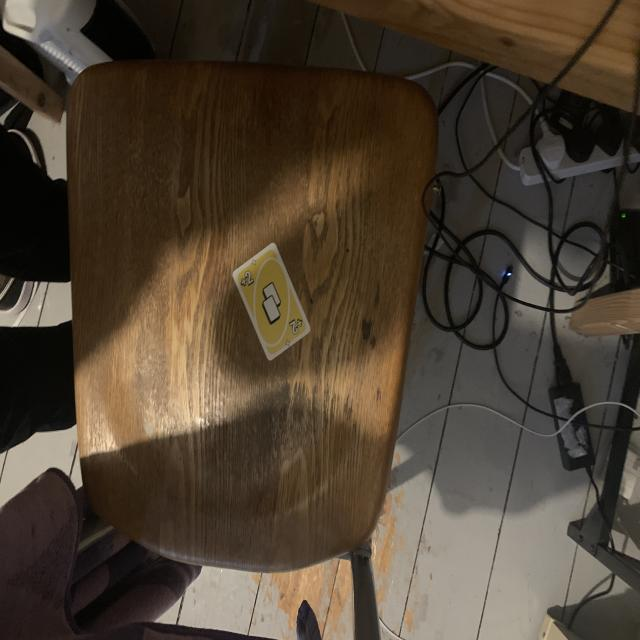lyellow-20: (238, 269, 255, 293)
